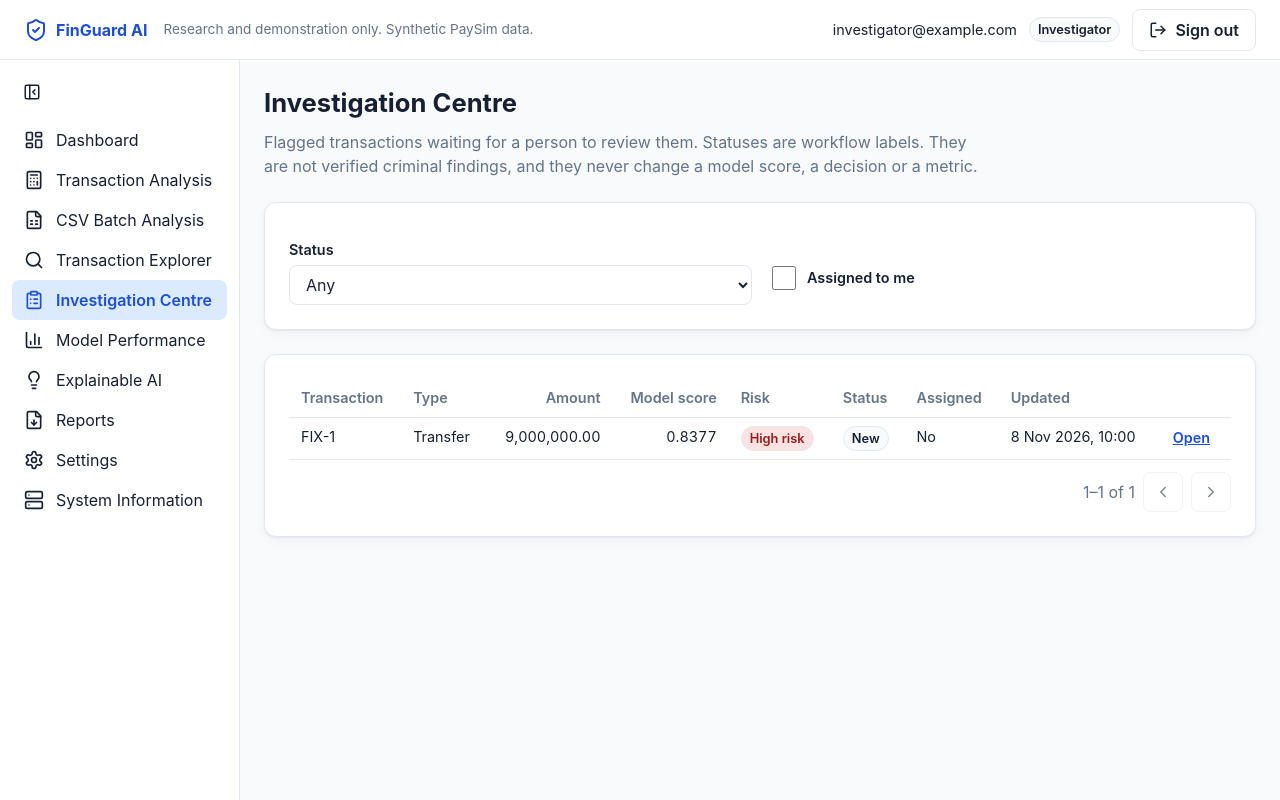
Test case: investigation centre › shows the API's refusal of an action
Click the button "Open". click: (1191, 438)
box: [1168, 426, 1215, 450]
(page scrolled)
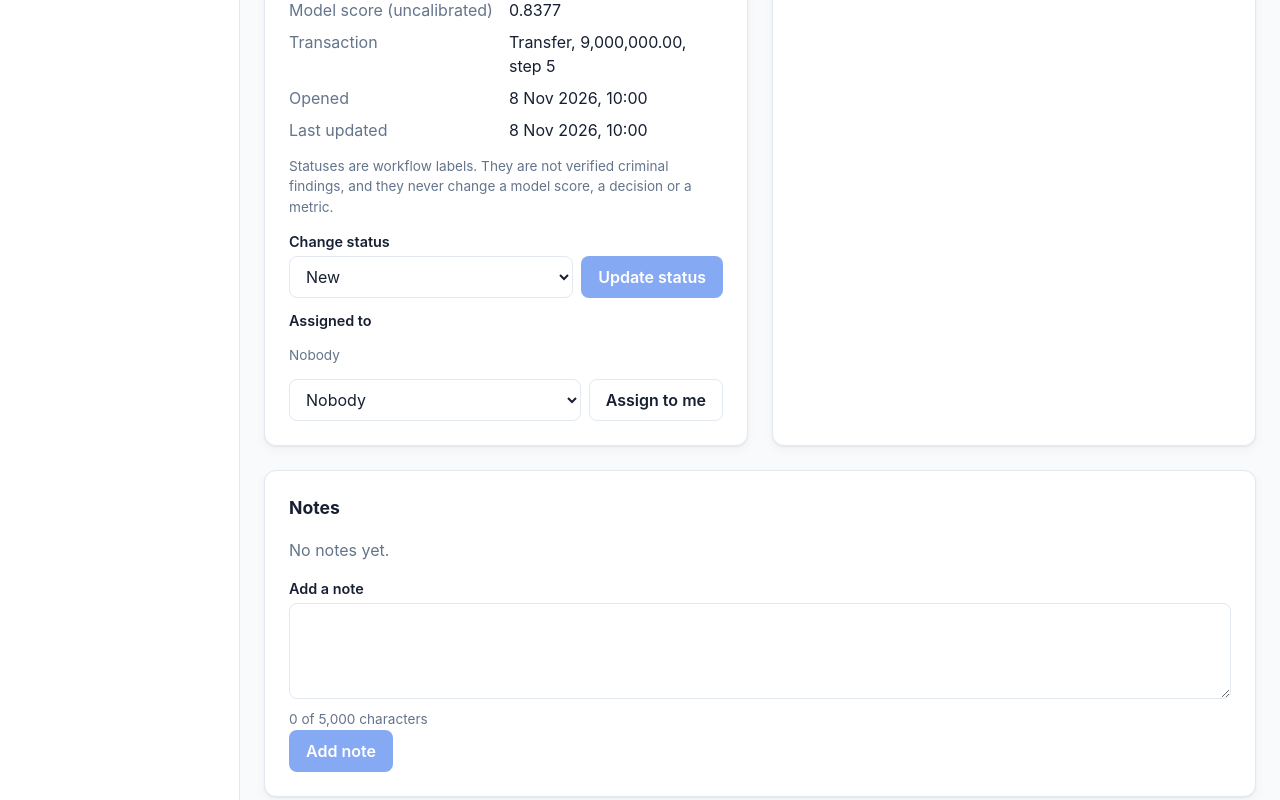
Click the button "Assign to me". click: (656, 400)
box: [589, 379, 723, 421]
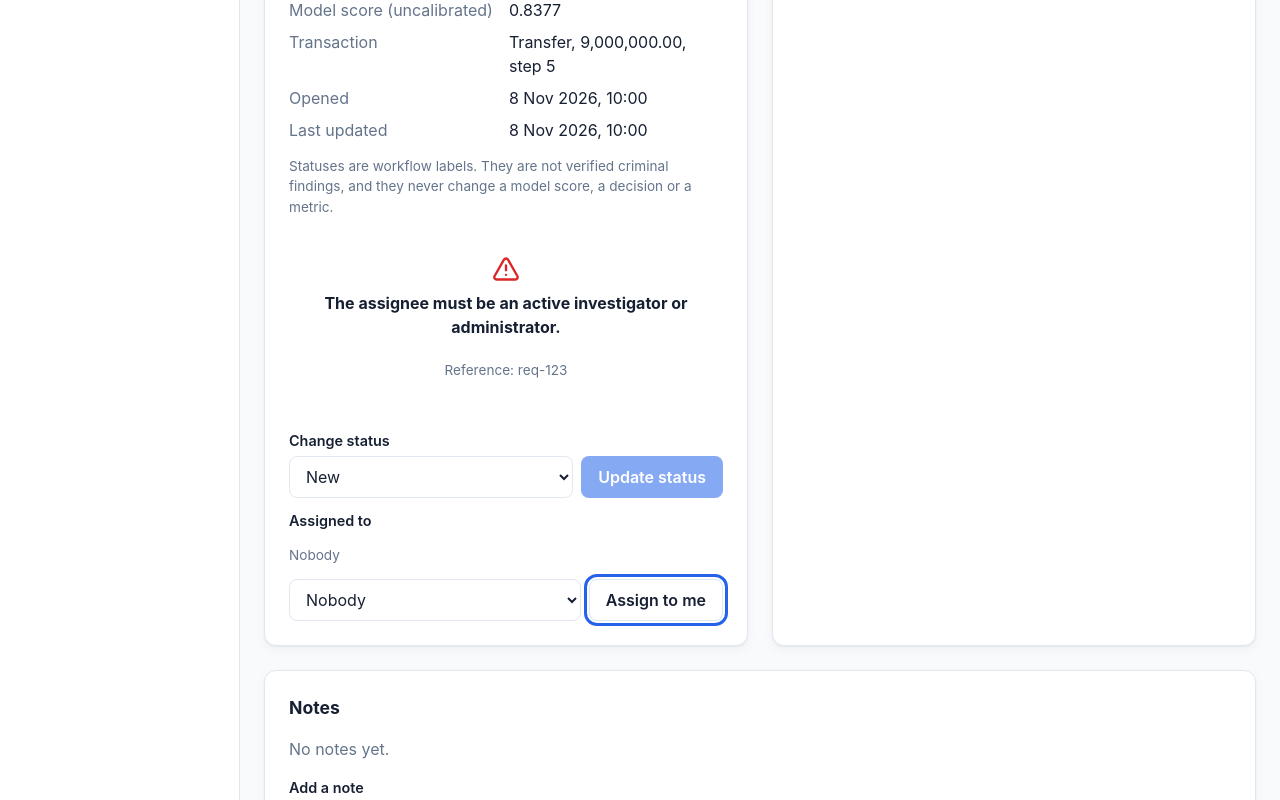
Expected: the text "must be an active investigator" is shown, [324, 292, 688, 336]
